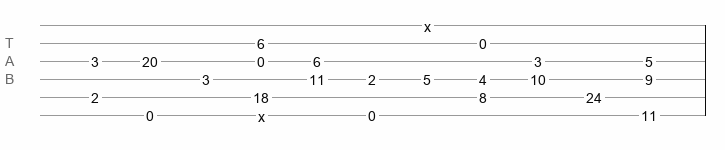0: (146, 108, 154, 118), (257, 54, 265, 64), (368, 108, 376, 118), (479, 36, 487, 46)
10: (530, 72, 546, 82)
11: (309, 72, 325, 82), (641, 108, 657, 118)
18: (253, 90, 269, 100)
2: (91, 90, 99, 100), (368, 72, 376, 82)
20: (142, 54, 158, 64)
24: (586, 90, 602, 100)
3: (91, 54, 99, 64), (202, 72, 210, 82), (534, 54, 542, 64)
4: (479, 72, 487, 82)
5: (423, 72, 431, 82), (645, 54, 653, 64)
6: (257, 36, 265, 46), (313, 54, 321, 64)
8: (479, 90, 487, 100)
9: (645, 72, 653, 82)
x: (258, 109, 265, 117), (424, 19, 431, 27)
